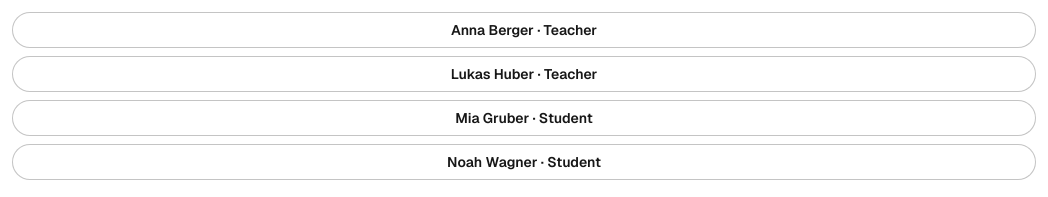
Test: one button per persona, each signing in with the public demo password
Expected: the button "Anna Berger · Teacher" is enabled, [12, 12, 1036, 48]
Expected: the button "Noah Wagner · Student" is enabled, [12, 144, 1036, 180]
Click the button "Mia Gruber · Student". click: (524, 118)
box: [12, 100, 1036, 136]
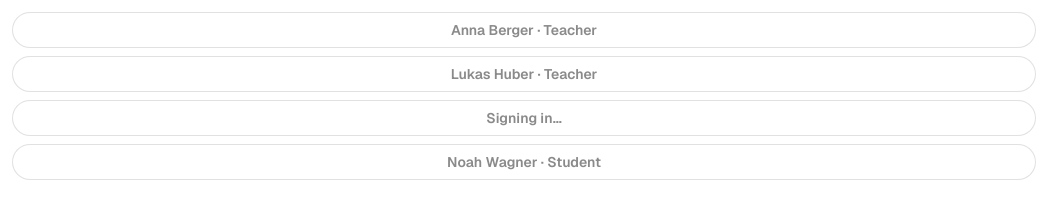
Now the button "Signing in…" is disabled, box [12, 100, 1036, 136]
Now the button "Lukas Huber · Teacher" is disabled, box [12, 56, 1036, 92]
